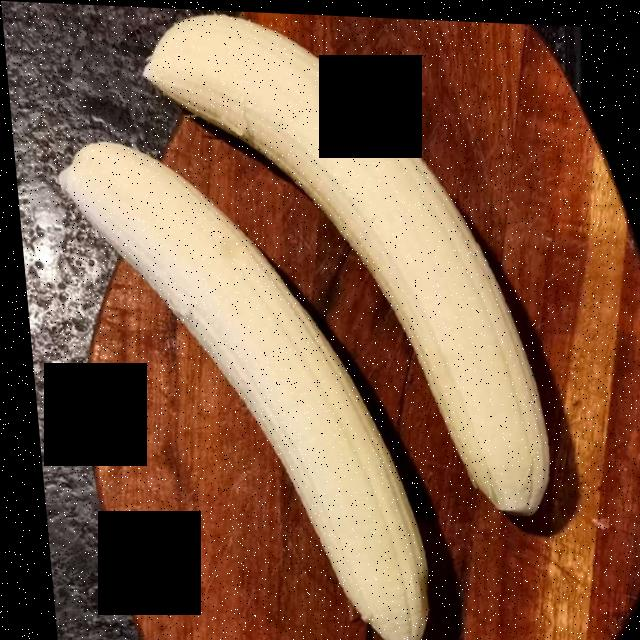banana: (46, 16, 532, 640)
